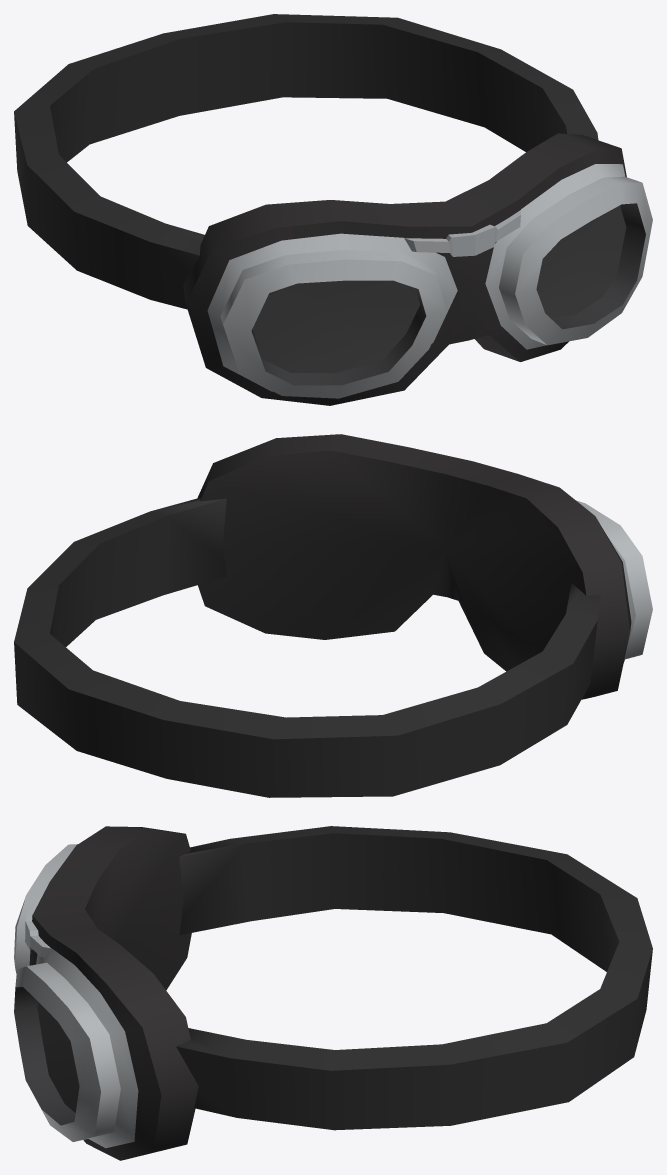
File: Eyewear_15.fbx
3 renders of one model, top to bottom at view 1: azimuth 30°, elevation 25°; view 2: azimuth 150°, elevation 25°; view 3: azimuth 270°, elevation 25°, orthographic.
Visible parts, largest first — view 1: Eyewear_15; view 2: Eyewear_15; view 3: Eyewear_15.
Part boxes in pixels (x1,y1,x2,y2): Eyewear_15: (14,14,652,405); Eyewear_15: (14,434,652,797); Eyewear_15: (14,826,652,1160).
Bounding box in the file's own units: 58.38 × 21.18 × 64.39.
